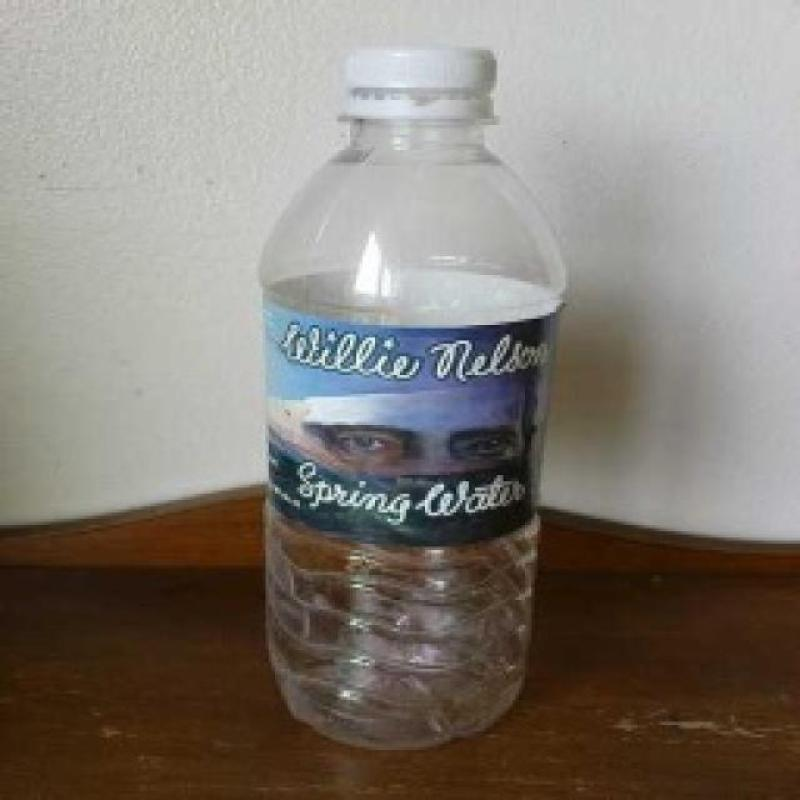botella: (252, 47, 570, 753)
